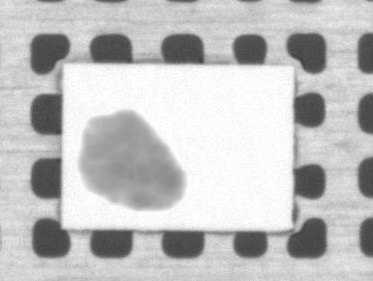DIE_INK: (81, 106, 186, 211)
